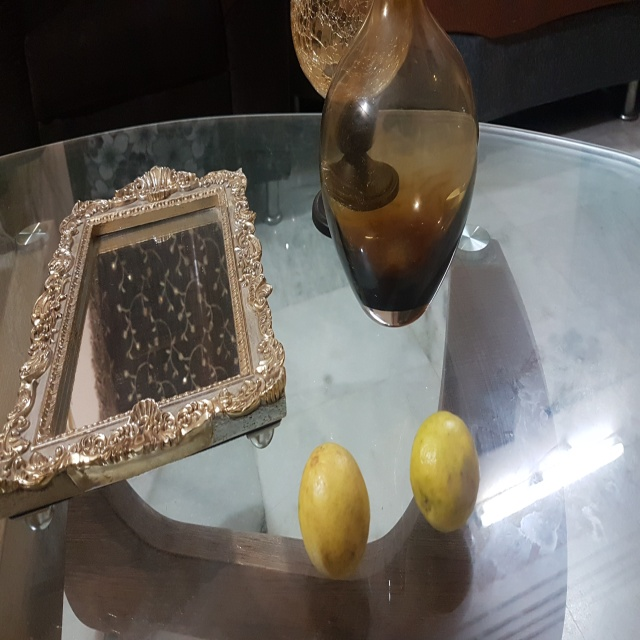lemon: (287, 437, 380, 585), (404, 406, 495, 545)
